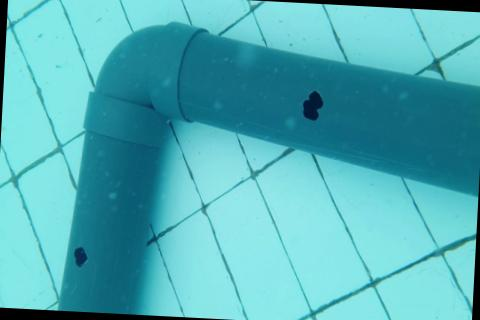kebocoran: (300, 87, 324, 122), (72, 245, 87, 268)
